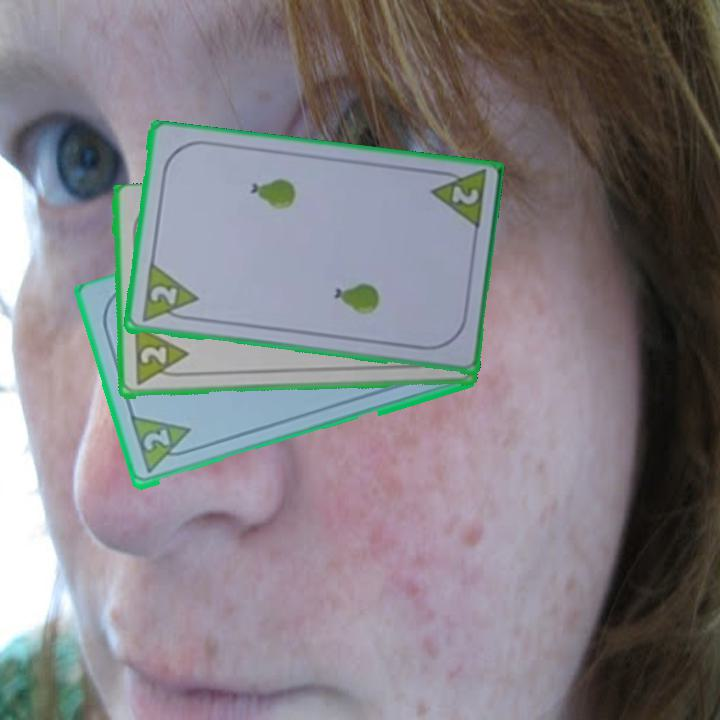2p: (426, 166, 488, 234), (138, 261, 200, 326), (130, 325, 191, 389), (139, 426, 173, 454)
